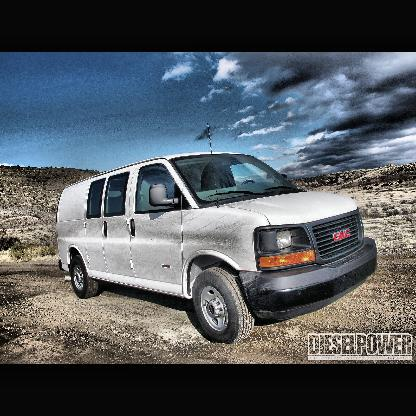GMC Savana Van 2012: (57, 152, 380, 343)
